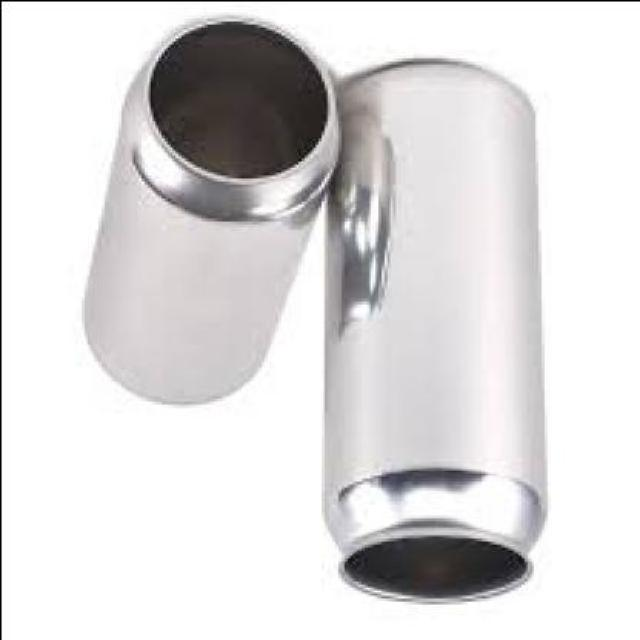METAL: (317, 57, 552, 614), (80, 23, 340, 408)
